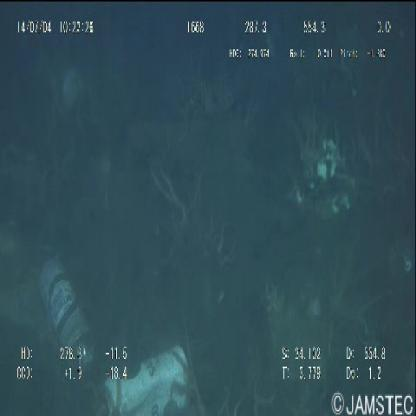Rác: (100, 345, 194, 415)
